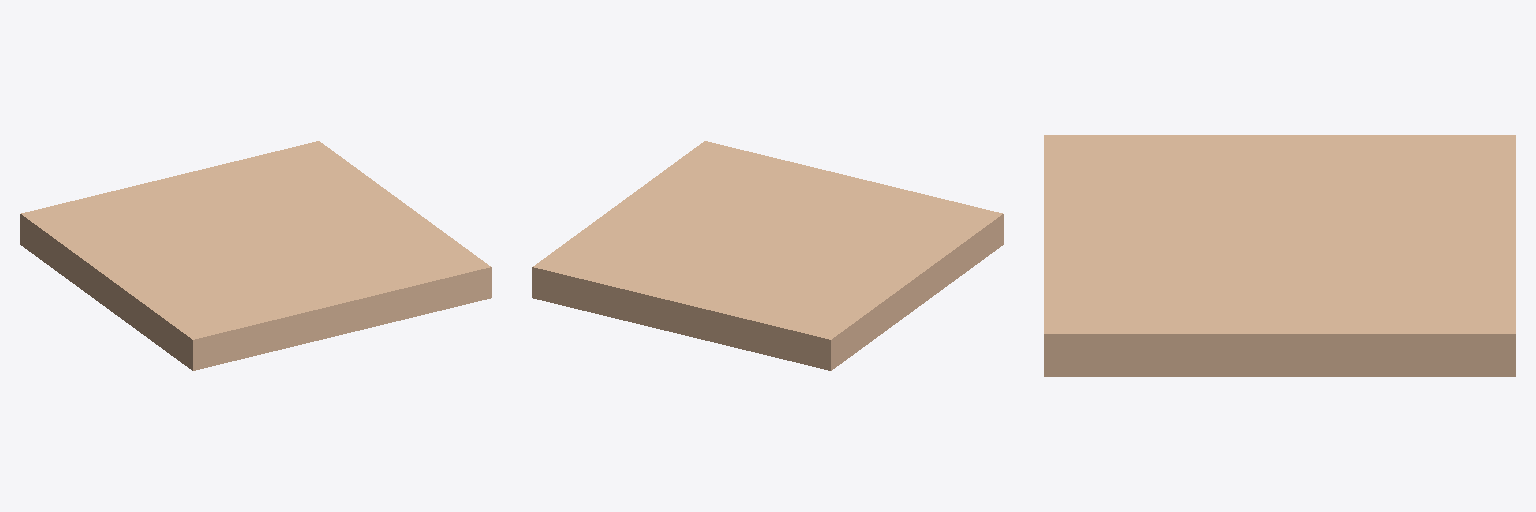
robot.urdf — flat_terrain:
<?xml version="1.0"?>
<robot name="flat_terrain">
  <link name="base_link">
  <contact>
      <lateral_friction value="1"/>
  </contact>
    <inertial>
      <origin rpy="0 0 0" xyz="0 0 0"/>
       <mass value=".0"/>
       <inertia ixx="0" ixy="0" ixz="0" iyy="0" iyz="0" izz="0"/>
    </inertial>
    <visual>
      <origin xyz="0.5 0.5 -0.05" rpy="0 0 0" />
      <geometry>
        <box size="1 1 0.1" />
      </geometry>
      <material name="desert sand">
        <color rgba="0.9297 0.7930 0.6758 1" />
      </material>
    </visual>
    <collision>
      <origin xyz="0.5 0.5 -0.05" rpy="0 0 0" />
      <geometry>
        <box size="1 1 0.1" />
      </geometry>
    </collision>
  </link>
</robot>

--- Render facts (derived) ---
Views: 3 orthographic renders of the robot side by side, from view 1: azimuth 30°, elevation 25°; view 2: azimuth 150°, elevation 25°; view 3: azimuth 270°, elevation 25°.
Model flat_terrain with 1 links and 0 joints (none), rooted at base_link, posed every joint at zero.
Links seen in each view (by area): view 1: base_link; view 2: base_link; view 3: base_link.
Link boxes in pixels (x1,y1,x2,y2): base_link: [20, 141, 491, 370]; base_link: [532, 141, 1003, 370]; base_link: [1044, 135, 1515, 376].
Size in the robot's own frame: 1 by 1 by 0.1 metres.
Geometry: primitives only (box / cylinder / sphere), no mesh files.